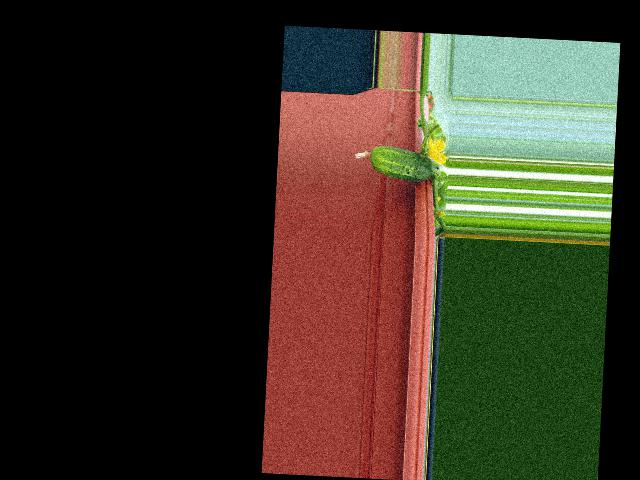cucumber: (353, 144, 433, 182)
